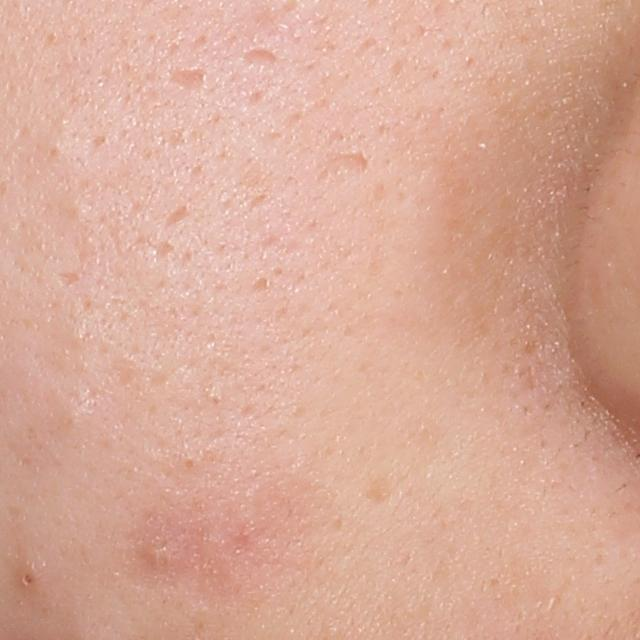atrophic_scar: (237, 44, 284, 72), (330, 148, 371, 179), (167, 65, 207, 95), (164, 202, 190, 230), (241, 275, 275, 295)
comedo: (16, 568, 42, 593), (182, 455, 198, 475)
papule: (136, 535, 176, 569)
